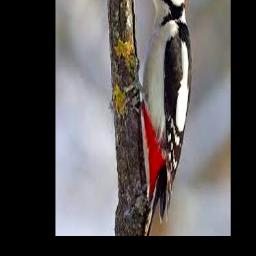Woodpecker: (128, 0, 192, 236)
